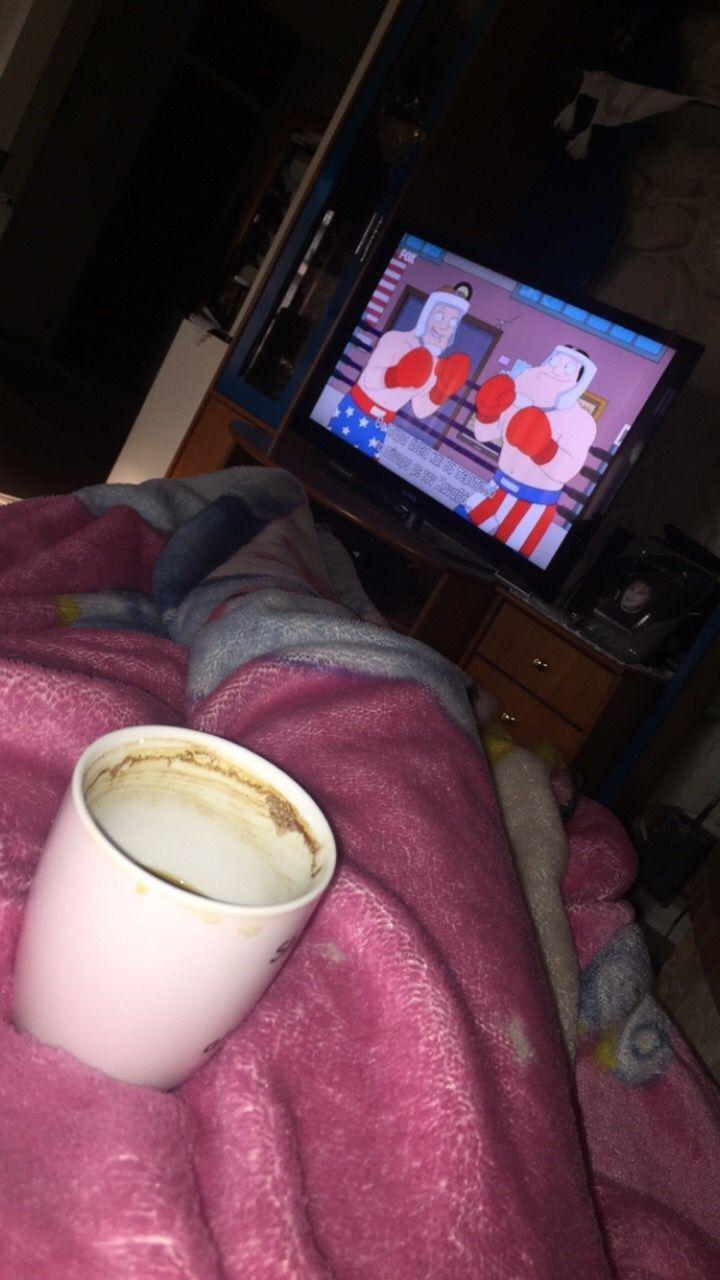cup-disposable: (9, 712, 350, 1091)
